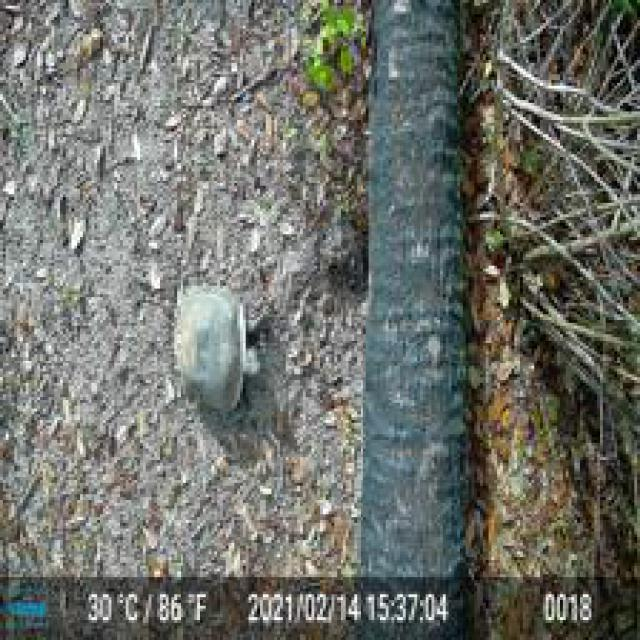tortoise: (165, 274, 268, 423)
